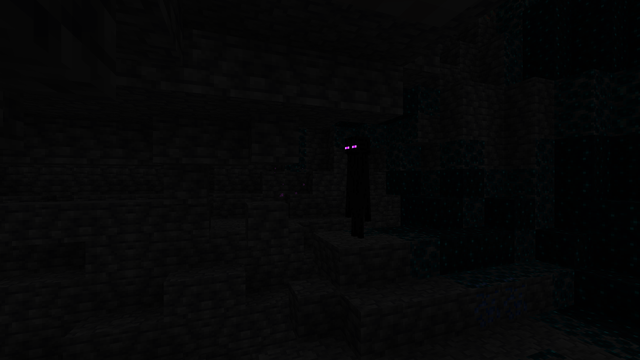endermens: (343, 132, 371, 239)
